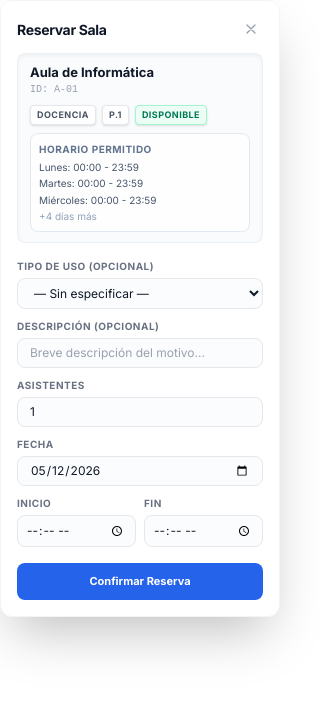
ReservationForm Component Tests › 3. Muestra el Feedback dinámico negativo si la API del Backend devuelve un fallo de Regla de Negocio (Ej. Aforo Excedido)
Note: Rellenamos el DOM HTML
In the time field named "horaInicio" below "Inicio": (76, 531) [17, 515, 136, 547], type "10:00"
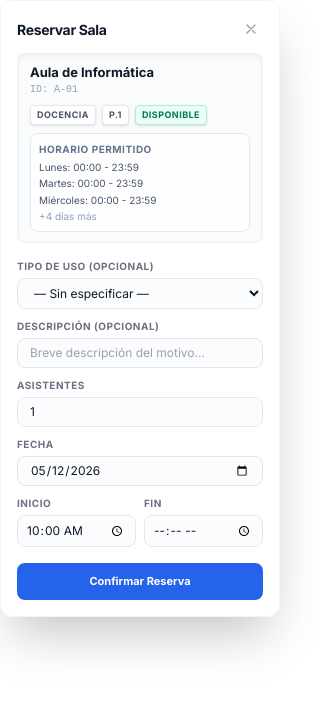
In the time field named "horaFin" below "Fin": (204, 531) [144, 515, 263, 547], type "12:00"
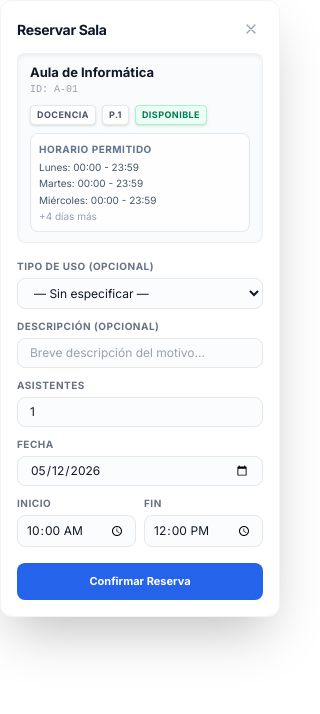
Click the button "Confirmar Reserva": (140, 582) [17, 563, 263, 600]
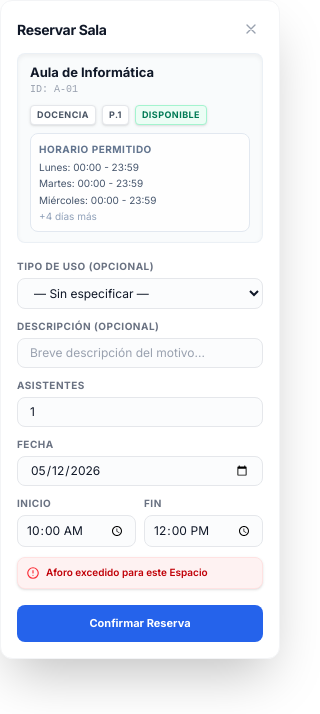
Expected: the text "Aforo excedido para este Espacio" is shown, [17, 557, 263, 589]
